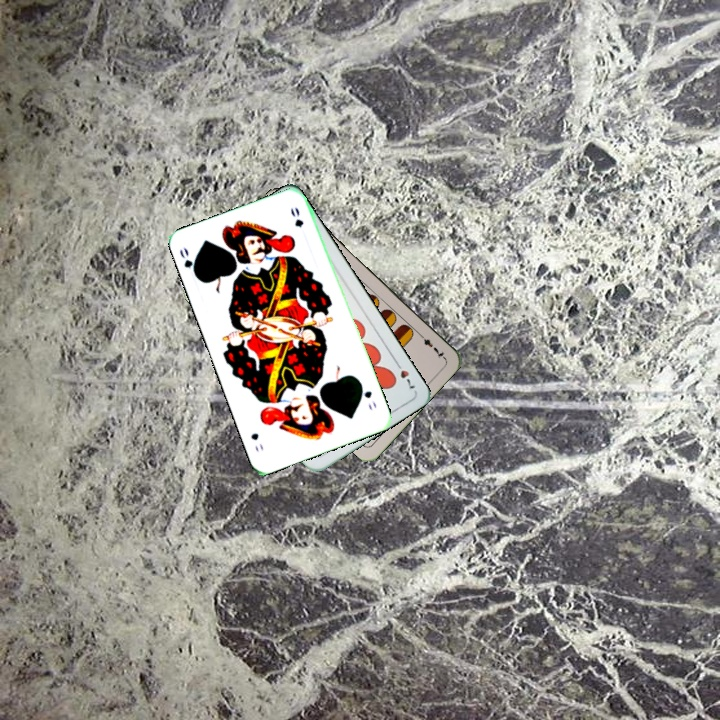E7: (414, 329, 447, 361)
GO: (175, 243, 201, 281), (356, 379, 379, 412)
H7: (391, 356, 418, 391)
